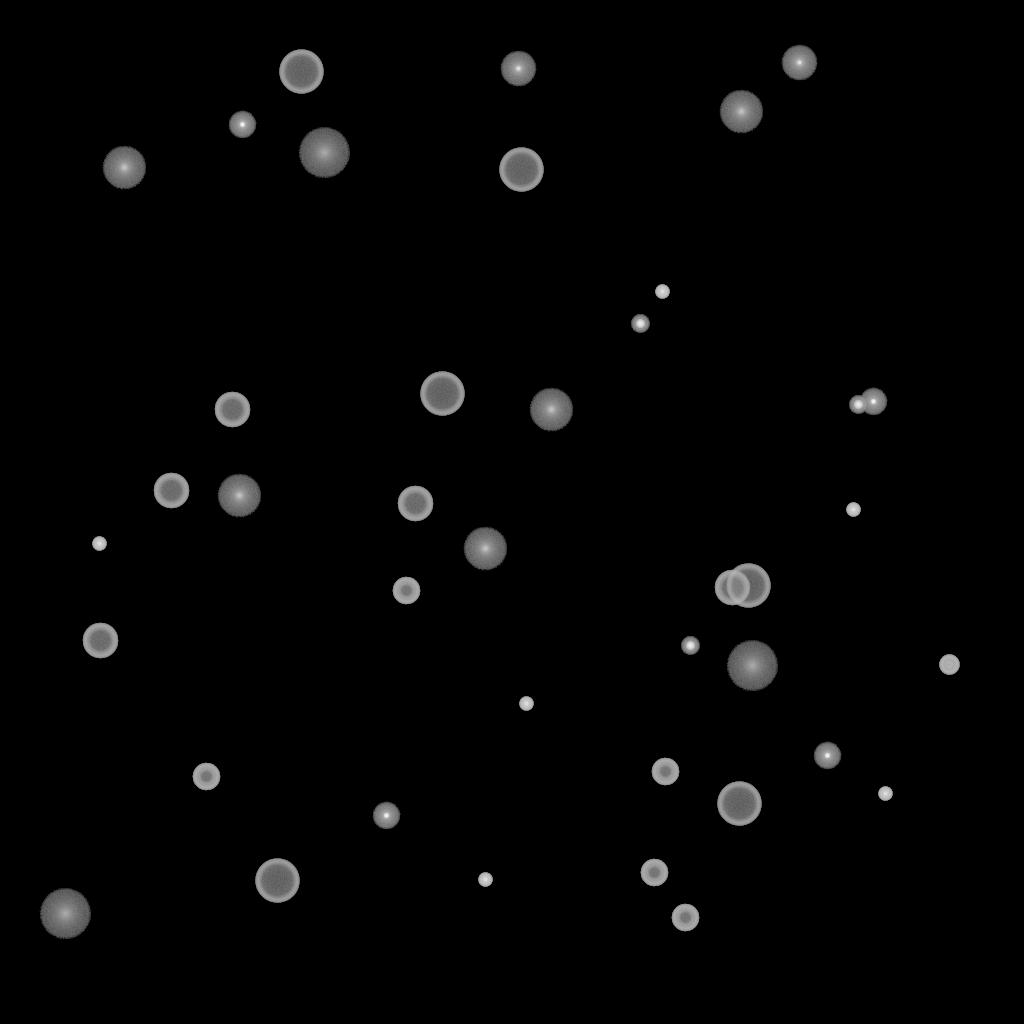depth:-10: (372, 802, 400, 830), (813, 742, 841, 770), (228, 111, 256, 139), (859, 388, 887, 416)
depth:-20: (849, 396, 867, 414), (631, 315, 649, 333), (681, 637, 699, 655)
depth:-30: (92, 537, 106, 551), (878, 787, 892, 801), (655, 285, 669, 299), (846, 503, 860, 517), (478, 873, 492, 887), (519, 697, 533, 711)
depth:-40: (939, 655, 959, 675)
depth:-50: (640, 859, 668, 887), (392, 577, 420, 605), (192, 763, 220, 791), (651, 758, 679, 786), (671, 904, 699, 932)
depth:-60: (82, 623, 118, 659), (214, 392, 250, 428), (153, 473, 189, 509), (714, 570, 750, 606), (397, 486, 433, 522)
depth:-70: (717, 782, 761, 826), (279, 50, 323, 94), (255, 859, 299, 903), (420, 372, 464, 416), (726, 564, 770, 608), (499, 148, 543, 192)
depth:0: (781, 45, 817, 81), (500, 51, 536, 87)
depth:10: (529, 388, 573, 432), (102, 146, 146, 190), (217, 474, 261, 518), (463, 527, 507, 571), (719, 90, 763, 134)
depth:20: (298, 128, 350, 178), (39, 889, 91, 939), (726, 641, 778, 691)
